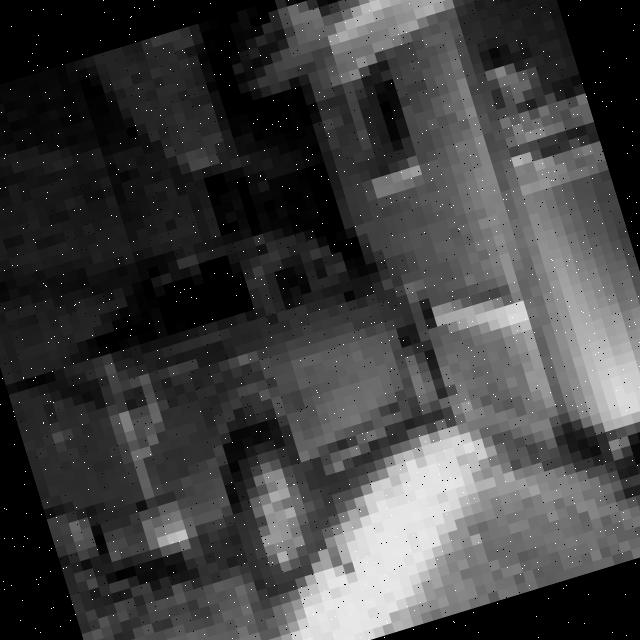trucks: (0, 176, 498, 640)
